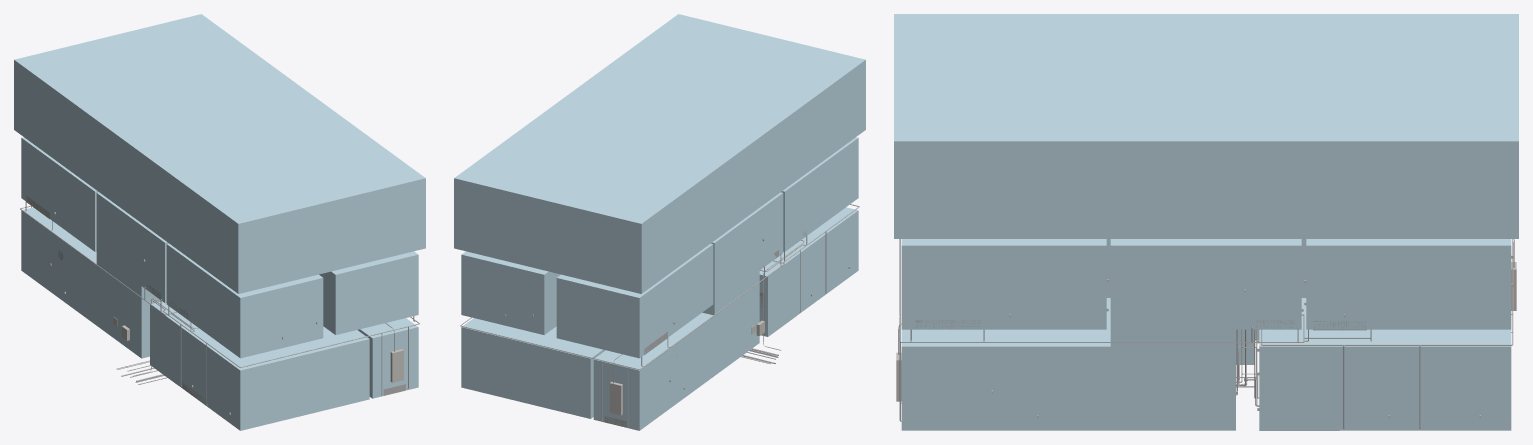
The picture shows the model from 3 angles, left to right: view 1: azimuth 30°, elevation 25°; view 2: azimuth 150°, elevation 25°; view 3: azimuth 270°, elevation 25°; orthographic projection. The views are drawn at different scales.
Visible parts, largest first — view 1: 0CRPz_SEr94Ah74P8LhwLP, 3YWx8nQAj0DhPfgLl9dDey, 1sxdtdrqb56BEe6diZkFqS, 3YWx8nQAj0DhPfgLl9dDei, 1sxdtdrqb56BEe6diZkFqy, 3YWx8nQAj0DhPfgLl9dDeO, 1sxdtdrqb56BEe6diZkFqD, 3YWx8nQAj0DhPfgLl9dDeh, 1sxdtdrqb56BEe6diZkFqP, 1sxdtdrqb56BEe6diZkFqV, 3YWx8nQAj0DhPfgLl9dDeH, 0dJKPQcDL7OOA9T2YsJr1q; view 2: 0CRPz_SEr94Ah74P8LhwLP, 3YWx8nQAj0DhPfgLl9dDey, 3YWx8nQAj0DhPfgLl9dDeh, 1sxdtdrqb56BEe6diZkFq3, 1sxdtdrqb56BEe6diZkFqD, 1sxdtdrqb56BEe6diZkFqy, 3YWx8nQAj0DhPfgLl9dDeT, 3YWx8nQAj0DhPfgLl9dDei, 1sxdtdrqb56BEe6diZkFqS, 1sxdtdrqb56BEe6diZkFqV, 3YWx8nQAj0DhPfgLl9dDeH, 1K7eM1Qof1dOc9$mY9I4DR; view 3: 0CRPz_SEr94Ah74P8LhwLP, 1sxdtdrqb56BEe6diZkFqL, 1sxdtdrqb56BEe6diZkFqP, 3YWx8nQAj0DhPfgLl9dDeT, 3YWx8nQAj0DhPfgLl9dDeO, 1sxdtdrqb56BEe6diZkFq3, 3YWx8nQAj0DhPfgLl9dDey, 1sxdtdrqb56BEe6diZkFq6, 3YWx8nQAj0DhPfgLl9dDeU.
Boxes of the visible parts, bbox=[...] form: 0CRPz_SEr94Ah74P8LhwLP: bbox=[14, 14, 425, 293]; 3YWx8nQAj0DhPfgLl9dDey: bbox=[21, 17, 418, 220]; 1sxdtdrqb56BEe6diZkFqS: bbox=[178, 322, 369, 430]; 3YWx8nQAj0DhPfgLl9dDei: bbox=[166, 243, 323, 358]; 1sxdtdrqb56BEe6diZkFqy: bbox=[93, 192, 160, 358]; 3YWx8nQAj0DhPfgLl9dDeO: bbox=[319, 251, 418, 334]; 1sxdtdrqb56BEe6diZkFqD: bbox=[21, 207, 96, 322]; 3YWx8nQAj0DhPfgLl9dDeh: bbox=[21, 137, 98, 251]; 1sxdtdrqb56BEe6diZkFqP: bbox=[358, 318, 418, 398]; 1sxdtdrqb56BEe6diZkFqV: bbox=[150, 301, 190, 385]; 3YWx8nQAj0DhPfgLl9dDeH: bbox=[141, 225, 168, 303]; 0dJKPQcDL7OOA9T2YsJr1q: bbox=[390, 349, 403, 382]; 0CRPz_SEr94Ah74P8LhwLP: bbox=[454, 14, 865, 293]; 3YWx8nQAj0DhPfgLl9dDey: bbox=[461, 17, 858, 220]; 3YWx8nQAj0DhPfgLl9dDeh: bbox=[556, 243, 713, 358]; 1sxdtdrqb56BEe6diZkFq3: bbox=[461, 318, 605, 418]; 1sxdtdrqb56BEe6diZkFqD: bbox=[593, 315, 711, 430]; 1sxdtdrqb56BEe6diZkFqy: bbox=[699, 209, 759, 377]; 3YWx8nQAj0DhPfgLl9dDeT: bbox=[461, 251, 560, 334]; 3YWx8nQAj0DhPfgLl9dDei: bbox=[781, 137, 858, 251]; 1sxdtdrqb56BEe6diZkFqS: bbox=[783, 207, 858, 315]; 1sxdtdrqb56BEe6diZkFqV: bbox=[759, 252, 796, 336]; 3YWx8nQAj0DhPfgLl9dDeH: bbox=[757, 192, 783, 269]; 1K7eM1Qof1dOc9$mY9I4DR: bbox=[609, 381, 622, 415]; 0CRPz_SEr94Ah74P8LhwLP: bbox=[894, 14, 1518, 238]; 1sxdtdrqb56BEe6diZkFqL: bbox=[1101, 239, 1235, 430]; 1sxdtdrqb56BEe6diZkFqP: bbox=[901, 314, 1110, 430]; 3YWx8nQAj0DhPfgLl9dDeT: bbox=[1301, 239, 1511, 329]; 3YWx8nQAj0DhPfgLl9dDeO: bbox=[901, 239, 1110, 329]; 1sxdtdrqb56BEe6diZkFq3: bbox=[1339, 329, 1511, 430]; 3YWx8nQAj0DhPfgLl9dDey: bbox=[901, 17, 1511, 137]; 1sxdtdrqb56BEe6diZkFq6: bbox=[1259, 298, 1339, 430]; 3YWx8nQAj0DhPfgLl9dDeU: bbox=[1236, 239, 1301, 329].
Size of the model in its own units: 8.98 by 9.76 by 17.38.
